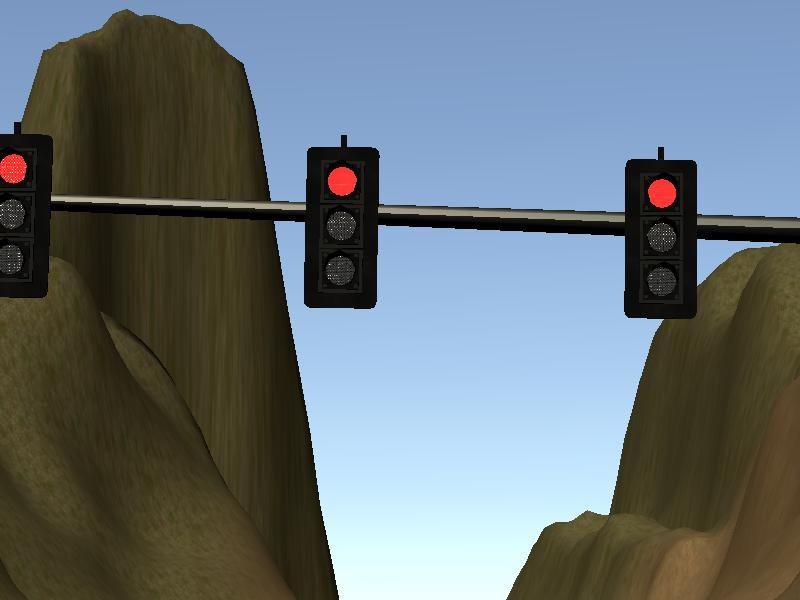RED: (303, 145, 378, 310), (623, 159, 698, 321), (1, 135, 52, 297)
